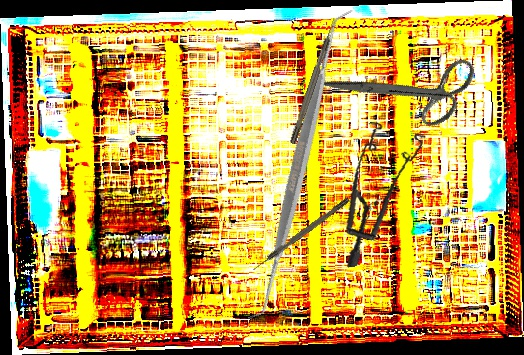Hook Surgical: (251, 197, 351, 272), (288, 17, 339, 145)
Iris Scissors: (318, 11, 490, 167)
Spatula Surgical: (146, 8, 455, 321)
Speculum: (324, 114, 445, 268)
